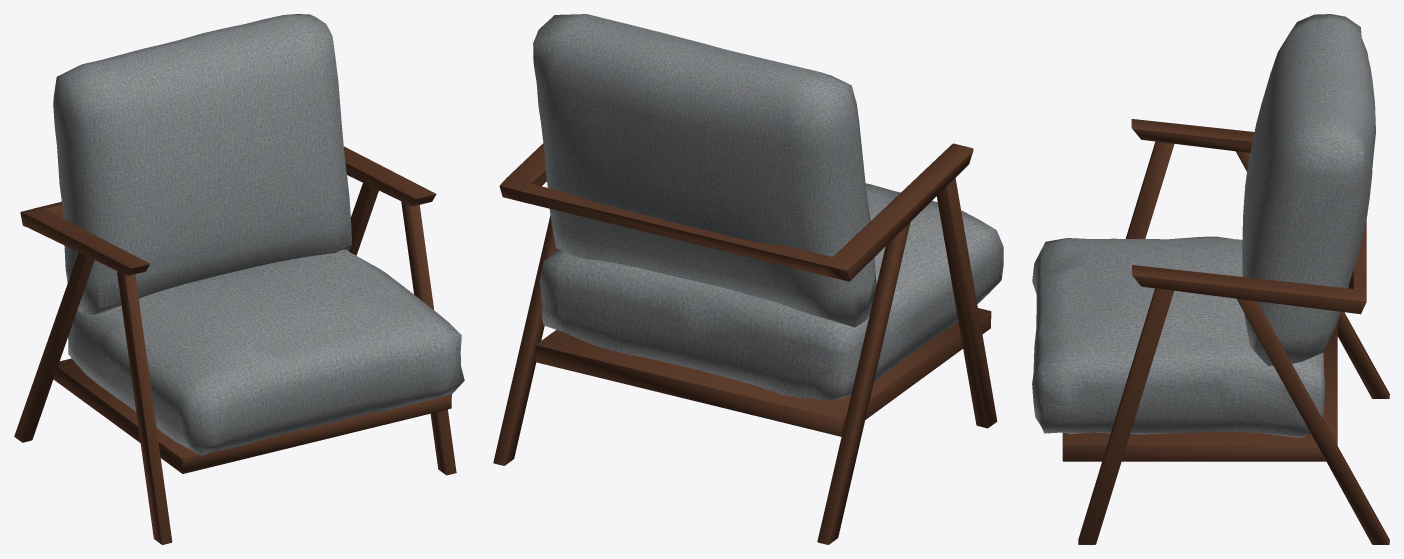
The model's file is chair_002.glb.
3 renders of one model, left to right at view 1: azimuth 30°, elevation 25°; view 2: azimuth 150°, elevation 25°; view 3: azimuth 270°, elevation 25°, orthographic. The views are drawn at different scales.
Parts seen in each view (by area): view 1: Chair_002; view 2: Chair_002; view 3: Chair_002.
Part boxes in pixels (x1=…): Chair_002: x1=14, y1=14, x2=464, y2=544; Chair_002: x1=493, y1=14, x2=1003, y2=544; Chair_002: x1=1032, y1=14, x2=1389, y2=544.
Size of the model in its own units: 0.8189 by 0.9717 by 0.7898.
Materials: 1 (1 with a texture image).
